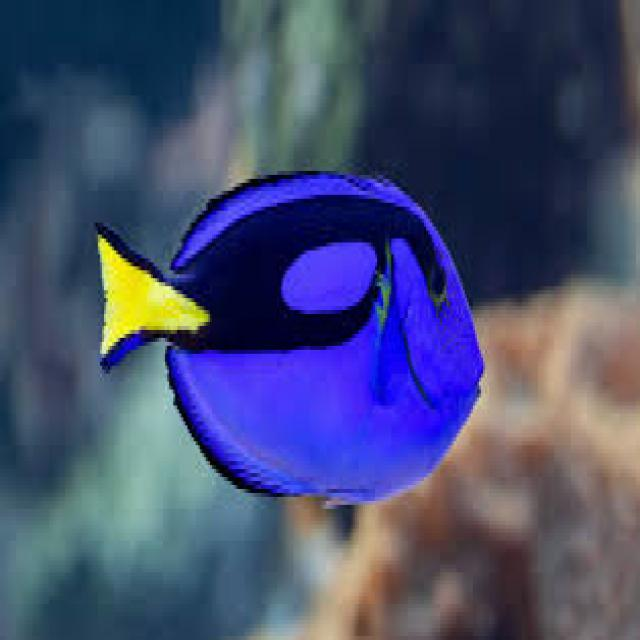BlueTang: (94, 168, 482, 501)
